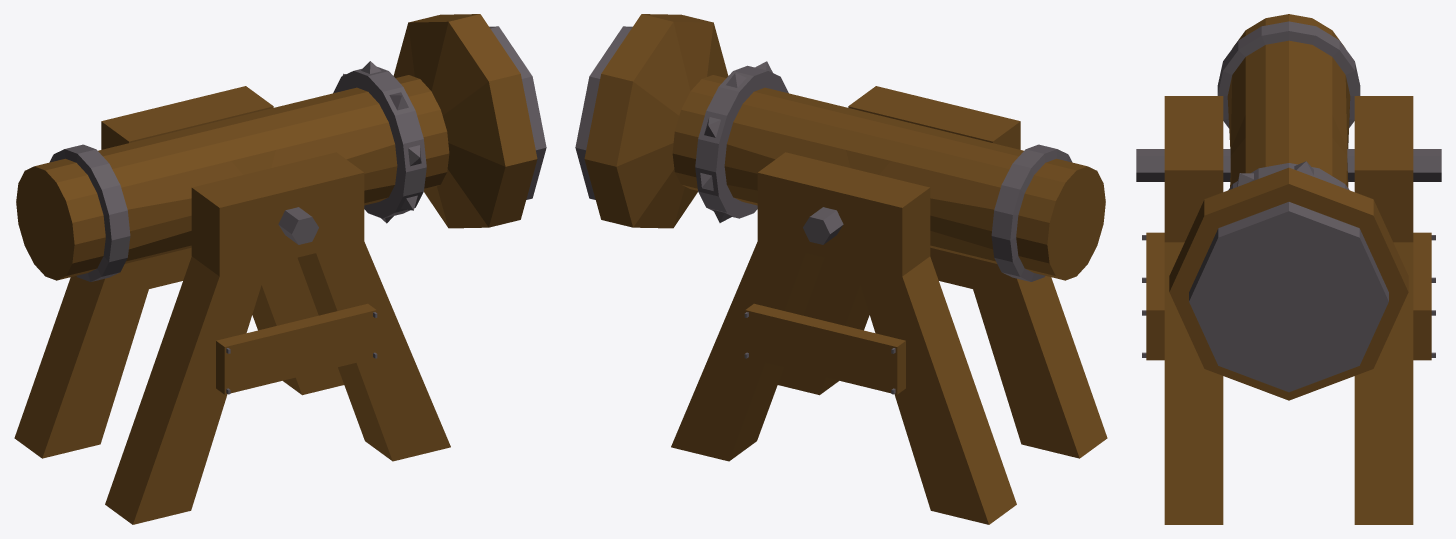
The model's file is TrapPusher.glb.
The picture shows the model from 3 angles, left to right: view 1: azimuth 30°, elevation 25°; view 2: azimuth 150°, elevation 25°; view 3: azimuth 270°, elevation 25°; orthographic projection. The views are drawn at different scales.
Visible parts, largest first — view 1: PusherLegs, PusherHull, PusherArrow; view 2: PusherLegs, PusherHull, PusherArrow; view 3: PusherLegs, PusherArrow, PusherHull.
Part boxes in pixels (bbox=[...]): PusherLegs: bbox=[14, 86, 450, 524]; PusherHull: bbox=[16, 61, 449, 281]; PusherArrow: bbox=[393, 14, 546, 228]; PusherLegs: bbox=[671, 86, 1107, 524]; PusherHull: bbox=[672, 61, 1105, 281]; PusherArrow: bbox=[575, 14, 728, 228]; PusherLegs: bbox=[1142, 96, 1435, 524]; PusherArrow: bbox=[1169, 167, 1408, 400]; PusherHull: bbox=[1136, 14, 1441, 190].
Bounding box in the file's own units: 1.25 × 0.9729 × 0.6964.
